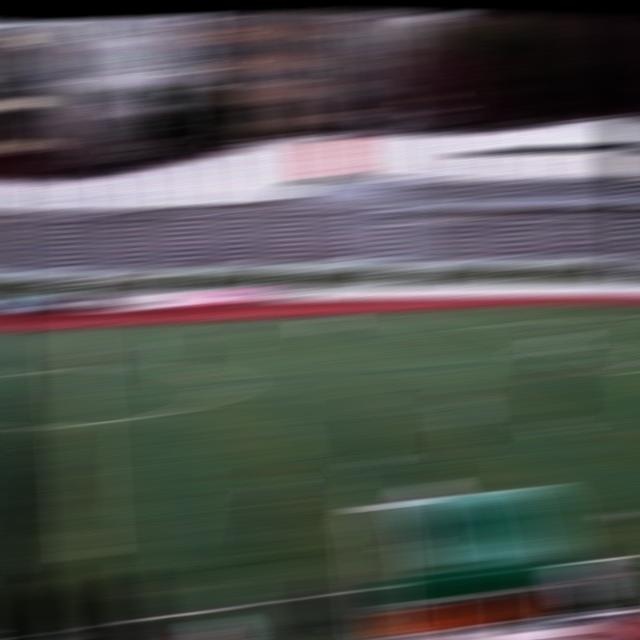bigarea_top_inner: (465, 318, 497, 331)
bigarea_top_outter: (616, 310, 640, 319)
corner: (549, 301, 584, 309)
halfcircle_bottom: (61, 415, 99, 432)
halfcircle_top: (58, 362, 92, 374)
midline_top_intersection: (56, 327, 86, 335)
top_arc_area_intersection: (533, 337, 565, 346)
